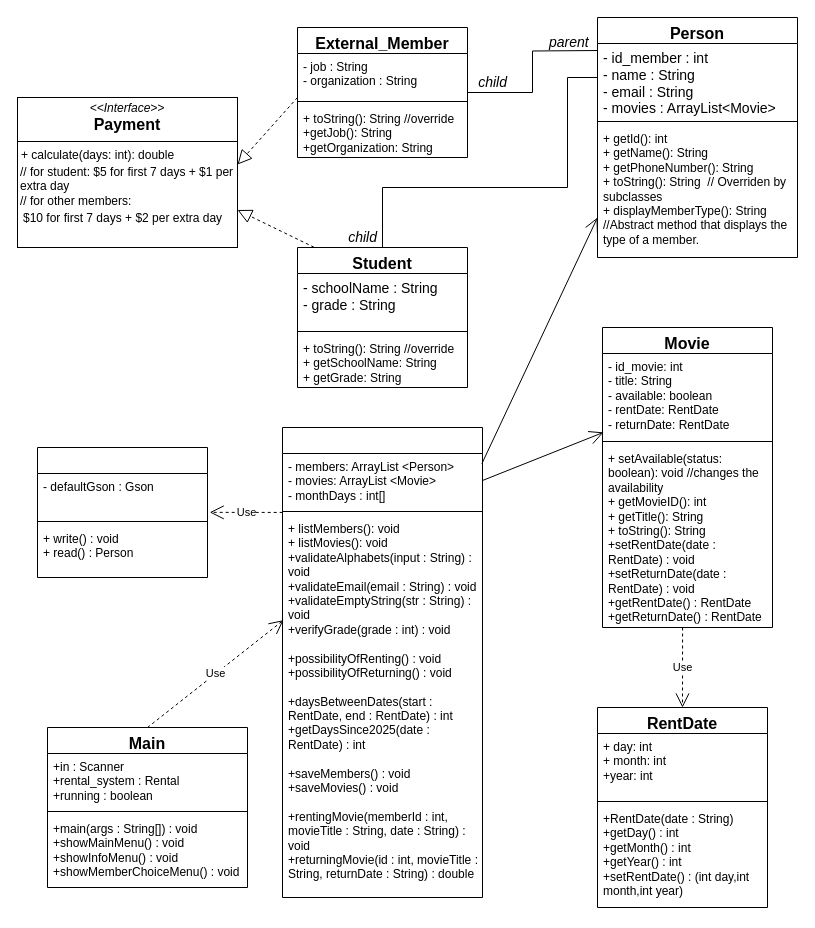
Some shapes in this 815 by 928 pixel diagram are drawn without their labels. Here are the shapes that lost their labels. From the top down, the box of each, then its label:
(36, 446, 208, 578): MemberTypeAdapter
(282, 426, 482, 898): Rental
